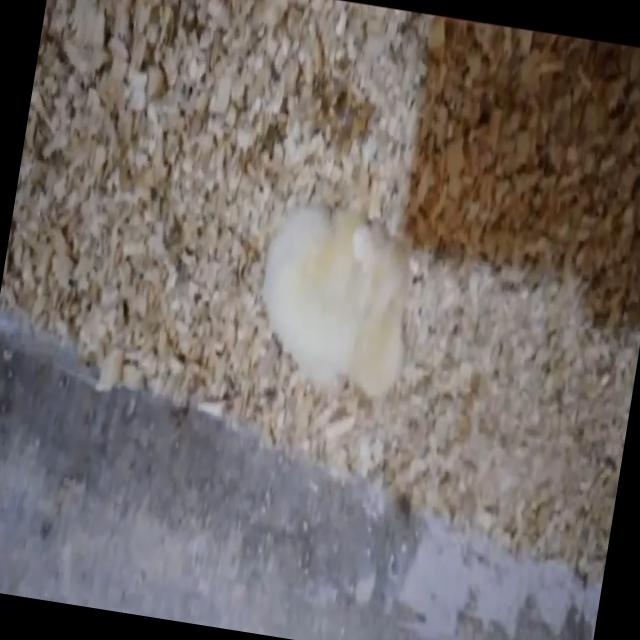abnormal chicken: (229, 189, 434, 468)
